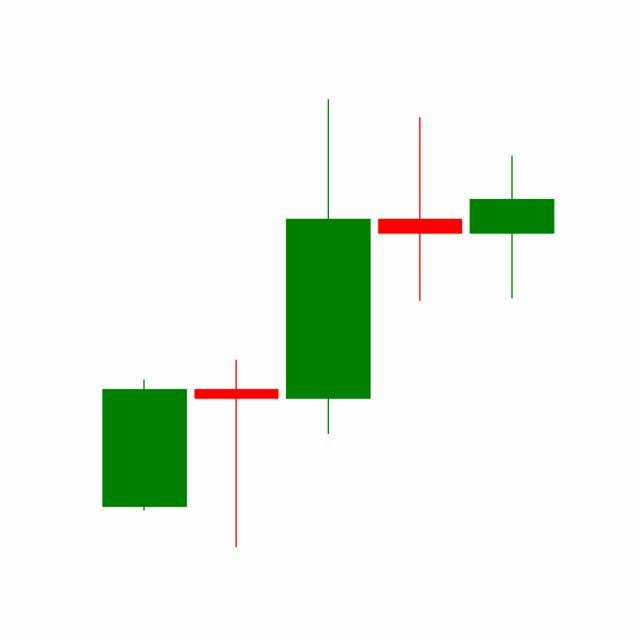Spinning Top: (374, 115, 468, 304)
